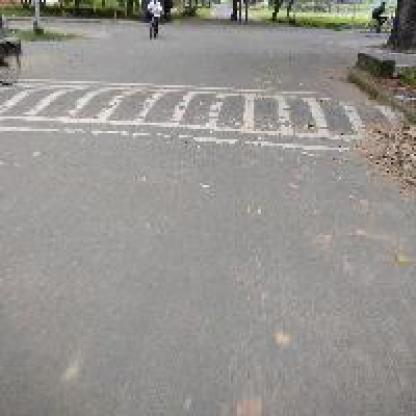Speed Bump: (21, 73, 412, 160)
